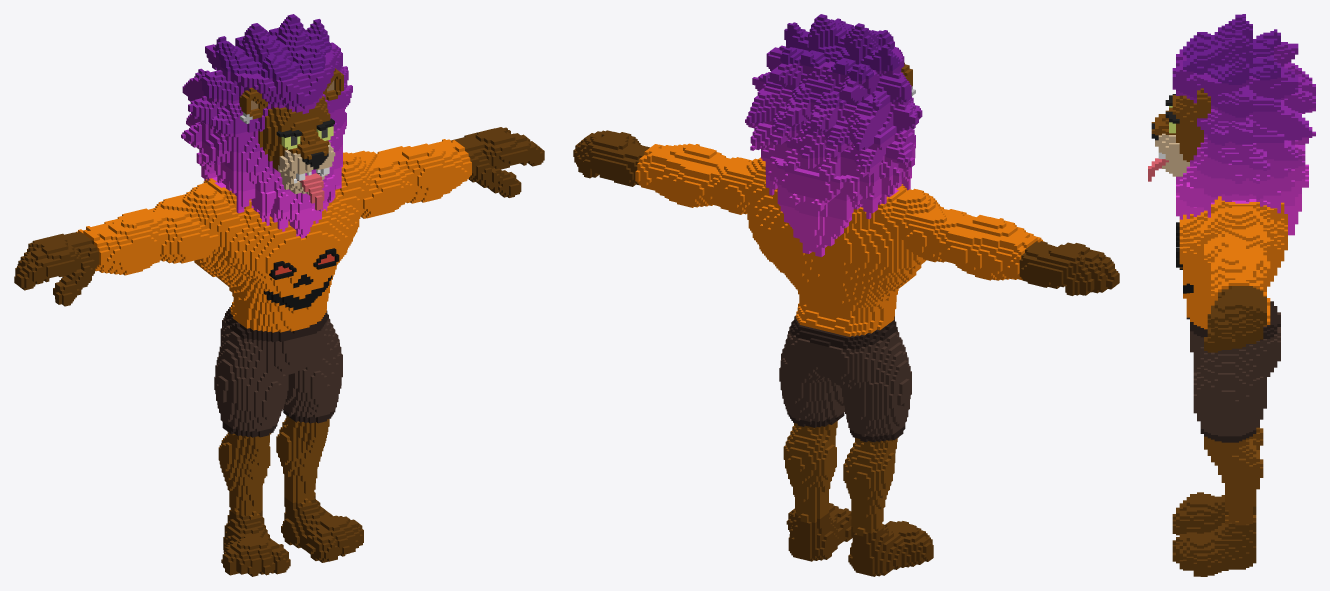
File: 1095-BUOtfgOo.glb
3 views of the same model, side by side, from view 1: azimuth 30°, elevation 25°; view 2: azimuth 150°, elevation 25°; view 3: azimuth 270°, elevation 25° (orthographic). The views are drawn at different scales.
Visible parts, largest first — view 1: tongue_out; view 2: tongue_out; view 3: tongue_out.
Boxes of the visible parts, x1=… form: tongue_out: x1=14, y1=14, x2=544, y2=576; tongue_out: x1=573, y1=14, x2=1119, y2=576; tongue_out: x1=1148, y1=14, x2=1315, y2=576.
Bounding box in the file's own units: 17.2 × 16.5 × 4.8.
Materials: 6 (6 with a texture image).
